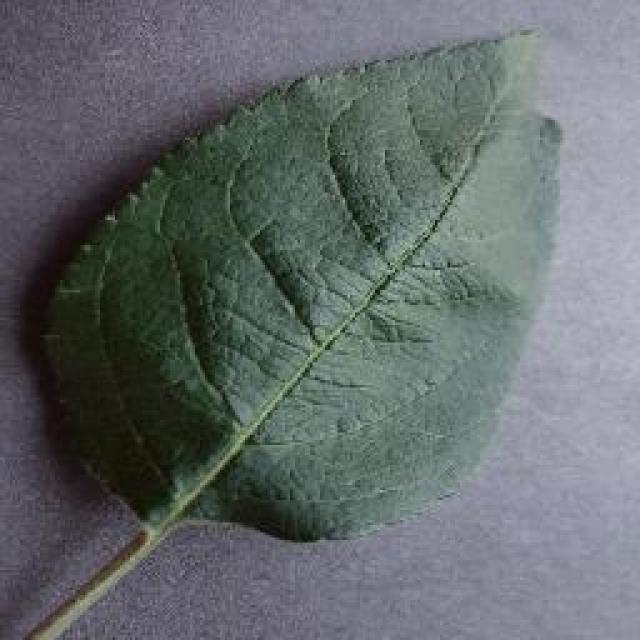apple healthy: (33, 23, 565, 545)
